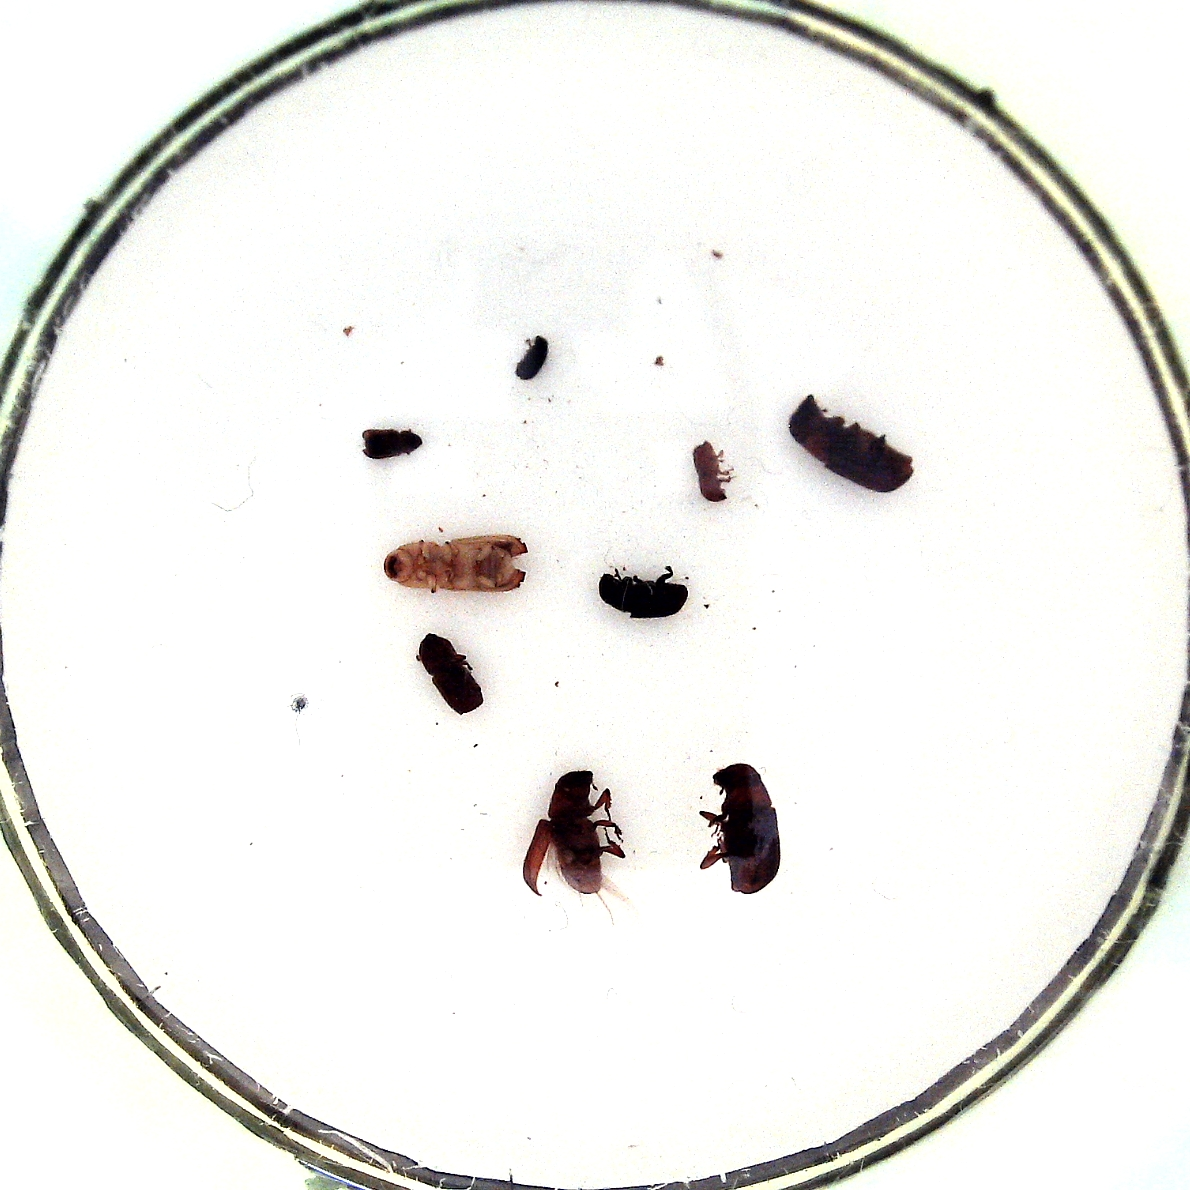Boerner: (382, 534, 529, 592)
Leconte: (789, 394, 913, 493), (713, 762, 781, 894), (547, 769, 603, 894)
acuminatus: (514, 333, 548, 379)
armandi: (598, 573, 688, 619)
coleoptera: (361, 428, 424, 460)
linnaeus: (418, 632, 483, 715)
